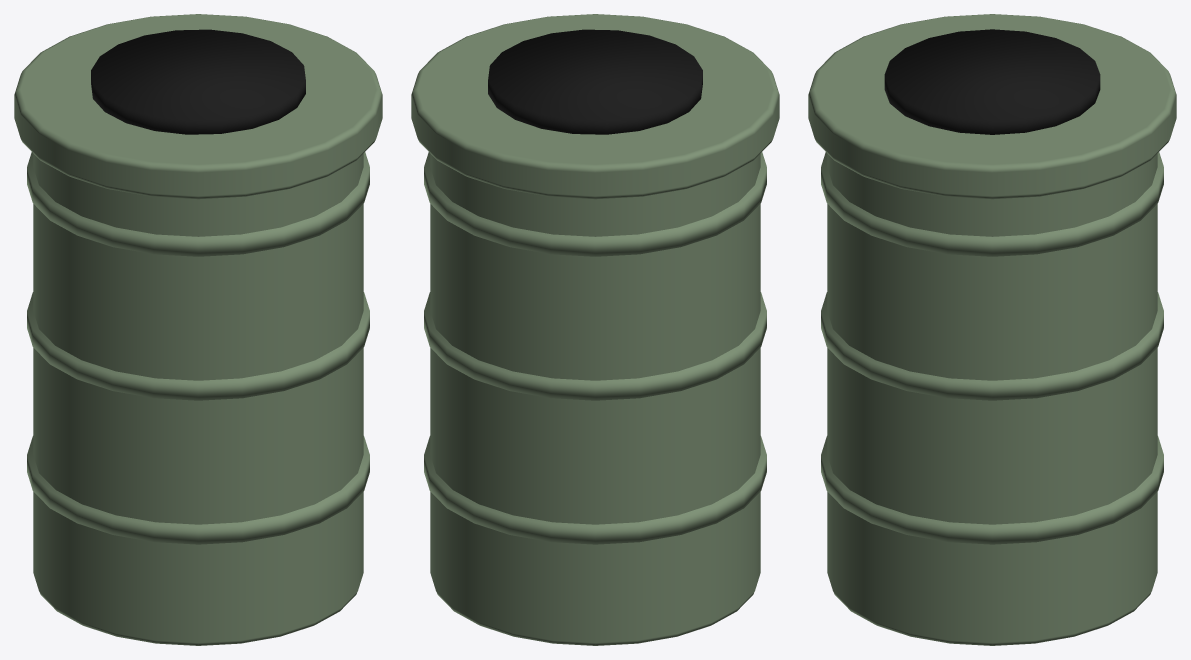
The picture shows the model from 3 angles, left to right: view 1: azimuth 30°, elevation 25°; view 2: azimuth 150°, elevation 25°; view 3: azimuth 270°, elevation 25°; orthographic projection.
Visible parts, largest first — view 1: bin, lid, hole, band, band.001, band.002; view 2: bin, lid, hole, band, band.001, band.002; view 3: bin, lid, hole, band, band.001, band.002.
Boxes of the visible parts, box(x1,y1,x2,y2) form: bin: box(33, 154, 363, 645); lid: box(14, 14, 382, 199); hole: box(91, 29, 305, 134); band: box(27, 436, 369, 544); band.001: box(27, 292, 369, 400); band.002: box(27, 152, 369, 256); bin: box(430, 154, 760, 645); lid: box(411, 14, 779, 199); hole: box(488, 29, 702, 134); band: box(424, 436, 766, 544); band.001: box(424, 292, 766, 400); band.002: box(424, 152, 766, 256); bin: box(827, 154, 1157, 645); lid: box(808, 14, 1176, 199); hole: box(884, 29, 1100, 134); band: box(821, 436, 1163, 544); band.001: box(821, 292, 1163, 400); band.002: box(821, 152, 1163, 256).
Bounding box in the file's own units: 0.58 × 0.875 × 0.58.
